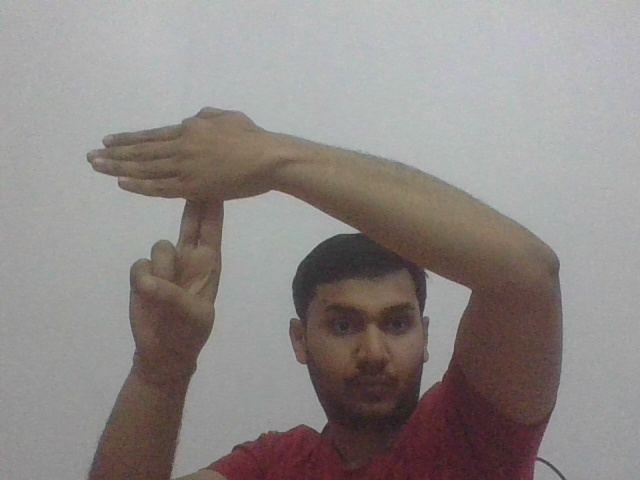N: (85, 104, 260, 252)
